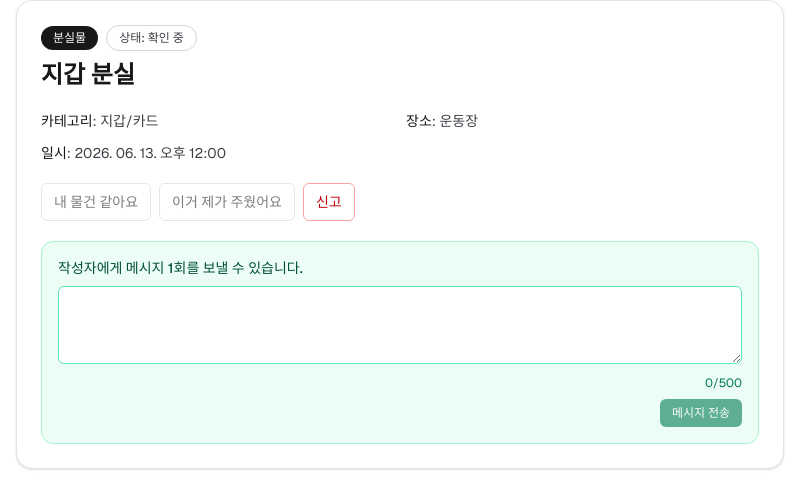
Test: PostDetailView › allows approved claimant to send one message
Expected: the text "작성자에게 메시지 1회를 보낼 수 있습니다." is shown, [58,259,303,277]
Type "학생회실로 갈게요." into the text box named "작성자에게 보낼 메시지" at (400,325), box [58,286,742,364]
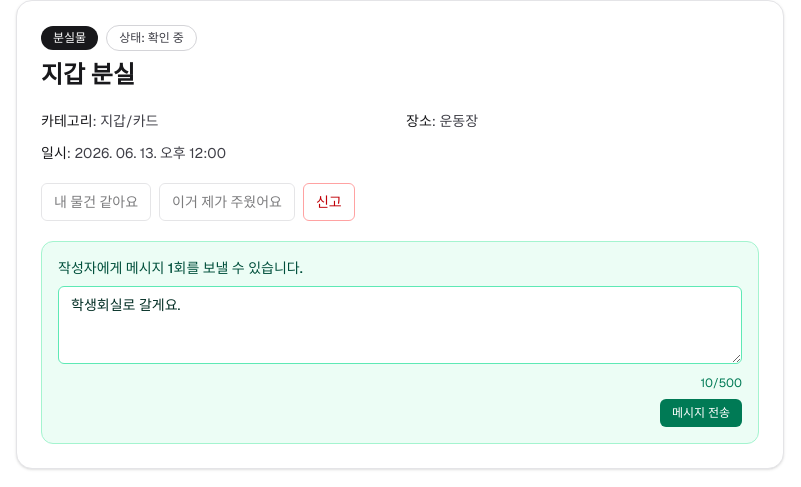
Click the button "메시지 전송" at (701,413), box [660,399,742,427]
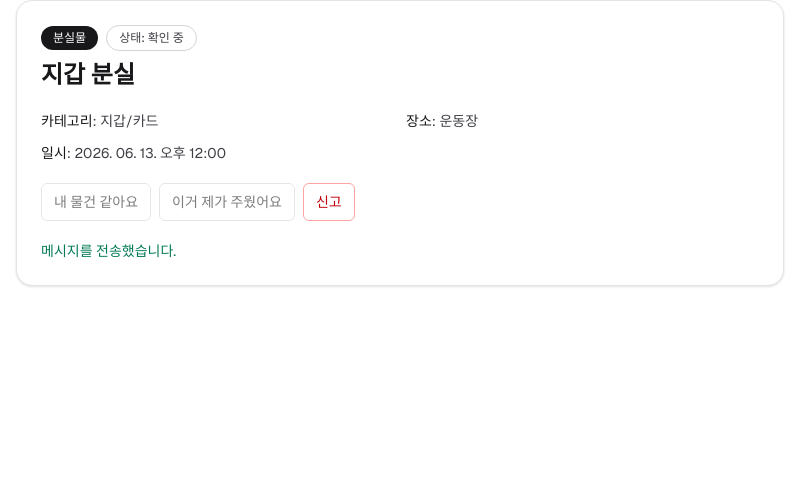
Expected: the text "메시지를 전송했습니다." is shown, [41,242,176,260]
